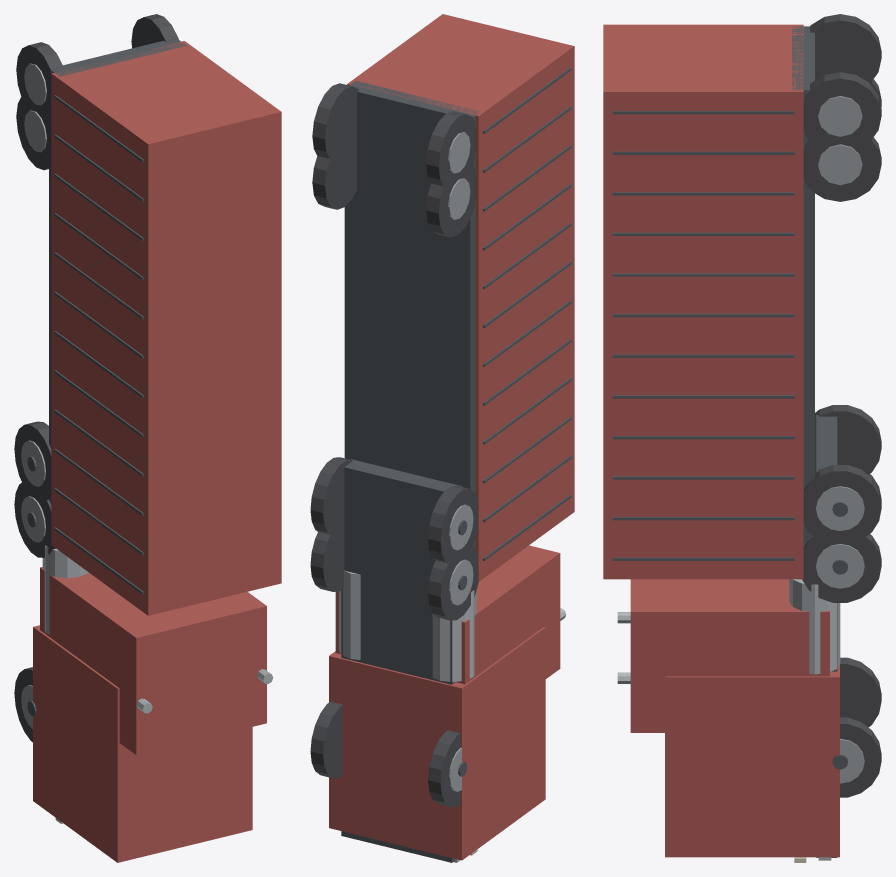
The model's file is semi_container_hauler.glb.
3 renders of one model, left to right at view 1: azimuth 30°, elevation 25°; view 2: azimuth 150°, elevation 25°; view 3: azimuth 270°, elevation 25°, orthographic. The views are drawn at different scales.
Parts seen in each view (by area): view 1: 0031_Cargo_trailer, 0001_Tractor_cab, 0007_Sleeper_pod, 0030_Trailer_chassis, 0060_Trailer_tire, 0024_Wheel_tire, 0018_Wheel_tire, 0056_Trailer_tire, 0008_Fuel_tank, 0062_Trailer_tire, 0025_Wheel_rim, 0019_Wheel_rim (+3 smaller); view 2: 0031_Cargo_trailer, 0030_Trailer_chassis, 0001_Tractor_cab, 0000_Tractor_frame, 0007_Sleeper_pod, 0062_Trailer_tire, 0058_Trailer_tire, 0008_Fuel_tank, 0060_Trailer_tire, 0024_Wheel_tire, 0027_Wheel_tire, 0015_Wheel_tire (+9 smaller); view 3: 0031_Cargo_trailer, 0001_Tractor_cab, 0007_Sleeper_pod, 0030_Trailer_chassis, 0060_Trailer_tire, 0027_Wheel_tire, 0062_Trailer_tire, 0058_Trailer_tire, 0024_Wheel_tire, 0021_Wheel_tire, 0010_Fuel_tank, 0012_Wheel_tire (+19 smaller).
Boxes of the visible parts, left/top/right/bottom form: 0031_Cargo_trailer: left=51, top=41, right=281, bottom=615; 0001_Tractor_cab: left=33, top=625, right=252, bottom=862; 0007_Sleeper_pod: left=40, top=567, right=266, bottom=755; 0030_Trailer_chassis: left=49, top=39, right=186, bottom=503; 0060_Trailer_tire: left=16, top=42, right=63, bottom=122; 0024_Wheel_tire: left=14, top=421, right=51, bottom=500; 0018_Wheel_tire: left=14, top=480, right=55, bottom=557; 0056_Trailer_tire: left=16, top=93, right=51, bottom=170; 0008_Fuel_tank: left=42, top=545, right=88, bottom=634; 0062_Trailer_tire: left=131, top=14, right=178, bottom=48; 0025_Wheel_rim: left=21, top=440, right=45, bottom=486; 0019_Wheel_rim: left=21, top=496, right=45, bottom=542; 0031_Cargo_trailer: left=347, top=14, right=574, bottom=581; 0030_Trailer_chassis: left=344, top=81, right=480, bottom=547; 0001_Tractor_cab: left=329, top=627, right=545, bottom=860; 0000_Tractor_frame: left=341, top=459, right=461, bottom=862; 0007_Sleeper_pod: left=335, top=545, right=560, bottom=684; 0062_Trailer_tire: left=312, top=83, right=358, bottom=163; 0058_Trailer_tire: left=312, top=132, right=356, bottom=209; 0008_Fuel_tank: left=432, top=590, right=476, bottom=681; 0060_Trailer_tire: left=426, top=111, right=475, bottom=190; 0024_Wheel_tire: left=428, top=486, right=477, bottom=564; 0027_Wheel_tire: left=310, top=457, right=352, bottom=536; 0015_Wheel_tire: left=310, top=701, right=342, bottom=778; 0031_Cargo_trailer: left=603, top=24, right=803, bottom=579; 0001_Tractor_cab: left=665, top=664, right=839, bottom=857; 0007_Sleeper_pod: left=630, top=579, right=829, bottom=732; 0030_Trailer_chassis: left=792, top=26, right=814, bottom=547; 0060_Trailer_tire: left=810, top=14, right=881, bottom=81; 0027_Wheel_tire: left=803, top=465, right=881, bottom=544; 0062_Trailer_tire: left=803, top=72, right=881, bottom=149; 0058_Trailer_tire: left=803, top=130, right=881, bottom=201; 0024_Wheel_tire: left=815, top=405, right=881, bottom=474; 0021_Wheel_tire: left=802, top=530, right=881, bottom=602; 0010_Fuel_tank: left=789, top=579, right=840, bottom=674; 0012_Wheel_tire: left=840, top=657, right=881, bottom=727.
Size of the model in its own units: 2.59 by 13.63 by 4.38.
